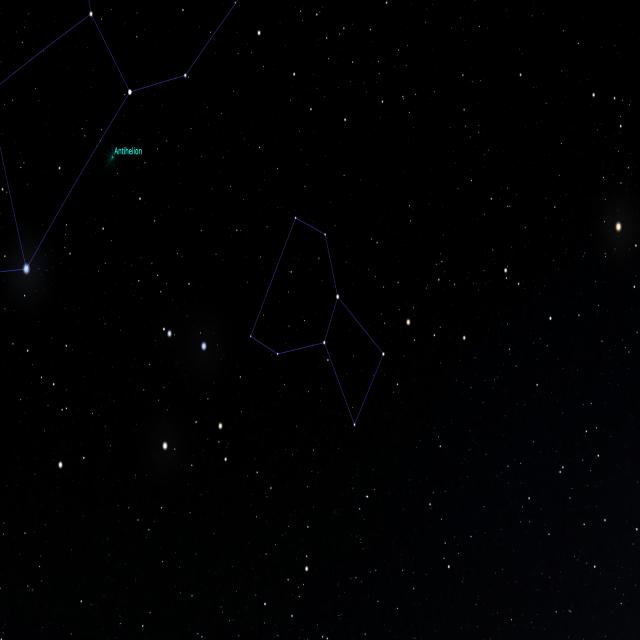Crater: (245, 208, 391, 435)
